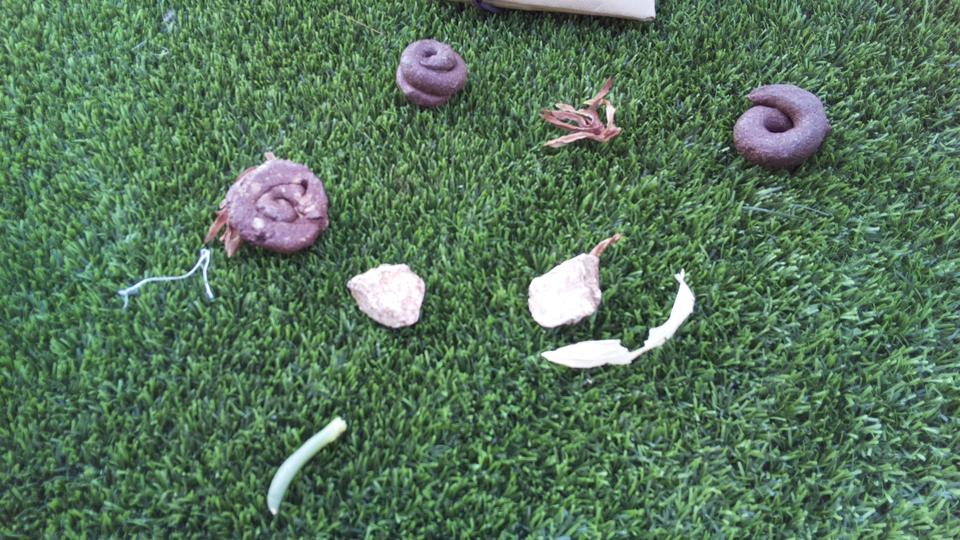poop: (221, 151, 335, 255), (726, 82, 833, 172), (392, 35, 475, 111)
